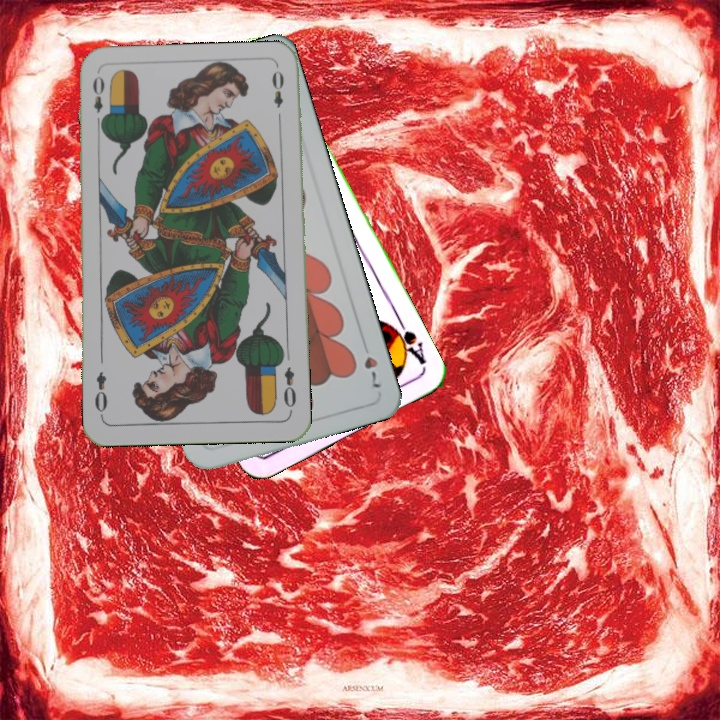EO: (89, 72, 109, 130), (280, 363, 299, 415)
H7: (358, 336, 384, 391)
SA: (385, 314, 429, 368)
